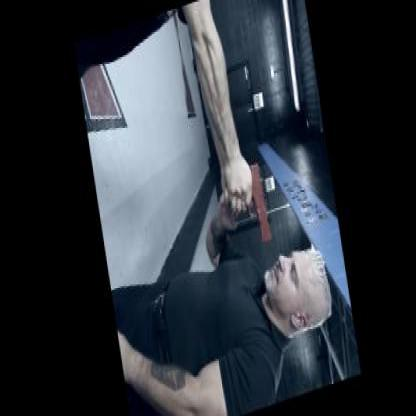pistol: (238, 158, 269, 245)
